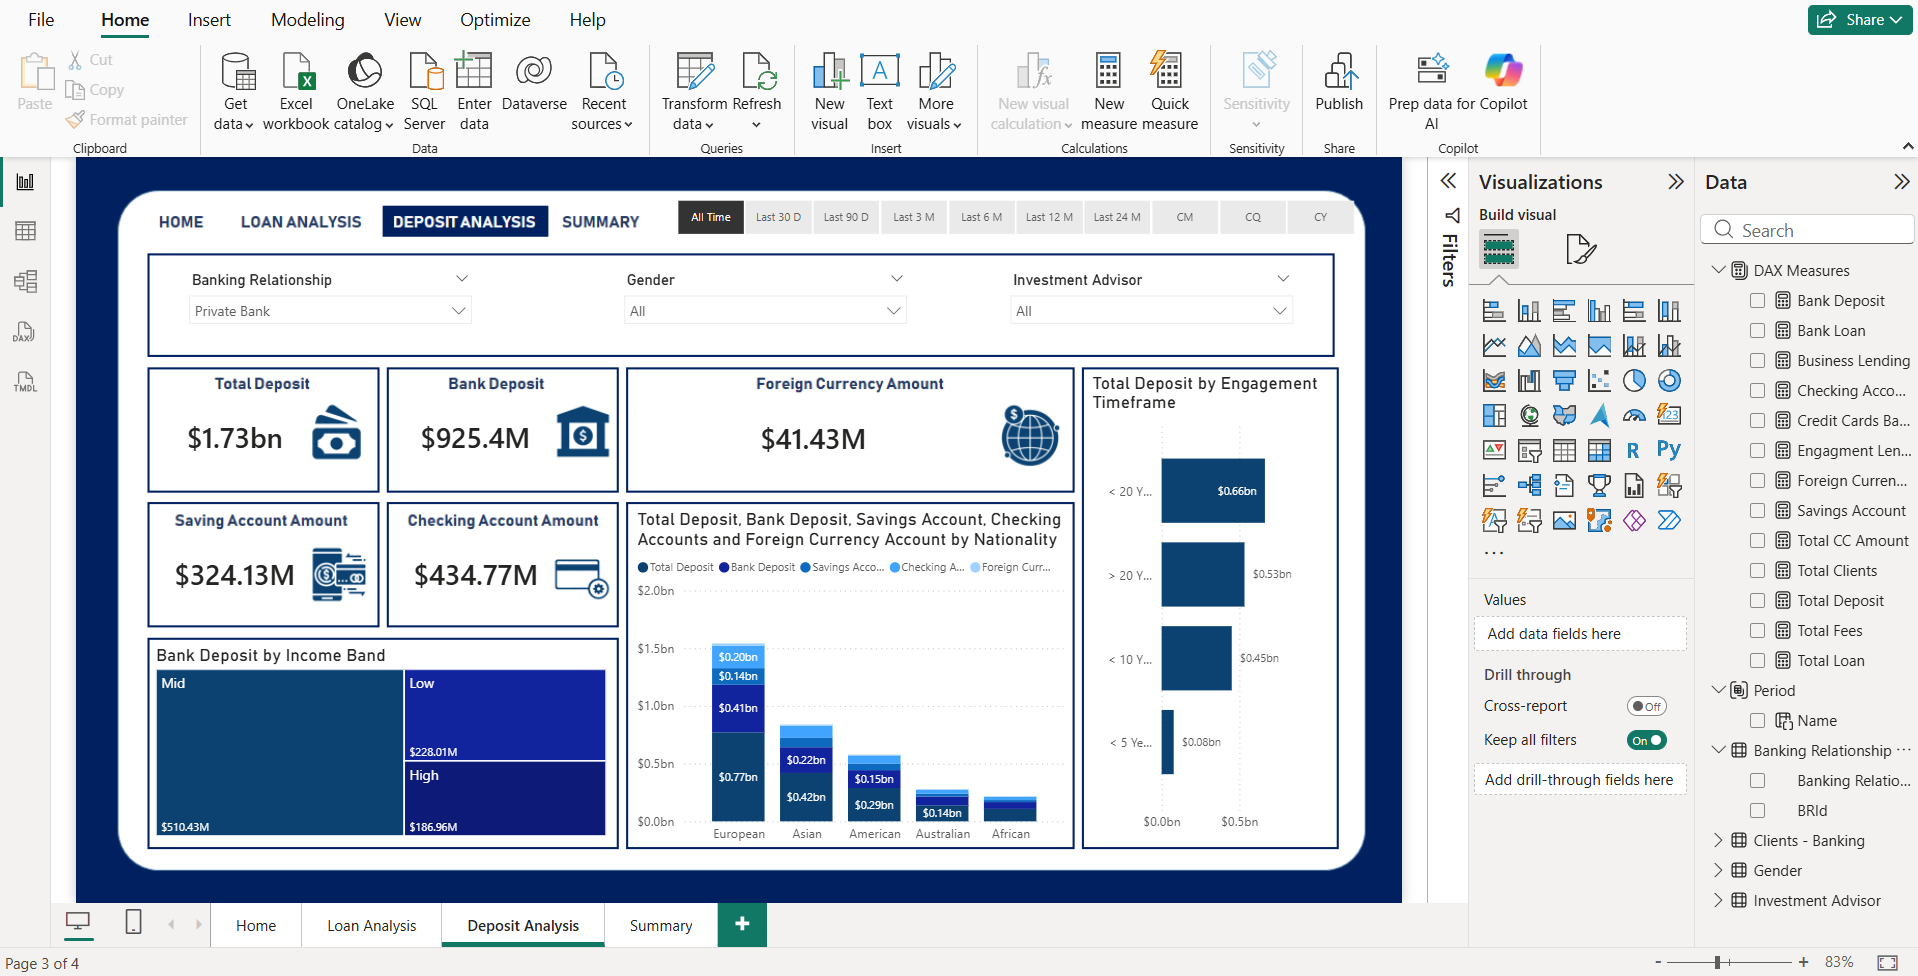

This screenshot's page, from the dashboard's own definition file:
{"tool":"powerbi","page":{"name":"Deposit Analysis","canvas":[1280,720],"ordinal":2},"visuals":[{"type":"card","fields":{"Values":["DAX Measures.Total Deposit"]},"box":[72.7,226.3,161.8,90.3],"z":0},{"type":"card","fields":{"Values":["DAX Measures.Bank Deposit"]},"box":[299,226.3,172.4,89.1],"z":1000},{"type":"card","fields":{"Values":["DAX Measures.Savings Account"]},"box":[72.7,360,161.8,89.1],"z":2000},{"type":"card","fields":{"Values":["DAX Measures.Checking Accounts"]},"box":[300.2,360,171.2,89.1],"z":3000},{"type":"slicer","fields":{"Values":["Banking Relationship.Banking Relationship"]},"box":[98.5,105.2,292.9,75.7],"z":4000},{"type":"slicer","fields":{"Values":["Gender.Gender"]},"box":[518.9,105.2,292.9,75.7],"z":5000},{"type":"slicer","fields":{"Values":["Investment Advisor.Investment Advisor"]},"box":[891.3,105.2,292.9,75.7],"z":6000},{"type":"card","fields":{"Values":["DAX Measures.Foreign Currency Account"]},"box":[537.1,227.5,349.4,89.1],"z":7000},{"type":"treemap","fields":{"Group":["Clients - Banking.Income Band"],"Values":["DAX Measures.Bank Deposit"]},"box":[72.7,470.2,444.4,190],"z":8000},{"type":"columnChart","fields":{"Category":["Clients - Banking.Nationality"],"Y":["DAX Measures.Total Deposit","DAX Measures.Bank Deposit","DAX Measures.Savings Account","DAX Measures.Checking Accounts","DAX Measures.Foreign Currency Account"]},"box":[537.1,338.9,423.3,331.9],"z":9000},{"type":"clusteredBarChart","fields":{"Category":["Clients - Banking.Engagement Timeframe"],"Y":["DAX Measures.Total Deposit"]},"box":[976,207.5,234,452.4],"z":10000},{"type":"slicer","fields":{"Values":["Period.Name"]},"box":[555.2,34.6,702.1,46.6],"z":11000},{"type":"actionButton","box":[72.8,44.2,58.5,31],"z":12000},{"type":"actionButton","box":[160,44.2,119.4,31],"z":13000},{"type":"actionButton","box":[471.6,44.2,83.6,31],"z":14000}]}

Visuals, with their boxes on the page's 1280x720 design canvas (x1, y1, x2, y2). These are canvas units, not pixel positions in the 1918x976 screenshot, which may show the page scaled, cropped or inside an application window:
card - DAX Measures.Total Deposit: bbox(73, 226, 234, 317)
card - DAX Measures.Bank Deposit: bbox(299, 226, 471, 315)
card - DAX Measures.Savings Account: bbox(73, 360, 234, 449)
card - DAX Measures.Checking Accounts: bbox(300, 360, 471, 449)
slicer - Banking Relationship.Banking Relationship: bbox(98, 105, 391, 181)
slicer - Gender.Gender: bbox(519, 105, 812, 181)
slicer - Investment Advisor.Investment Advisor: bbox(891, 105, 1184, 181)
card - DAX Measures.Foreign Currency Account: bbox(537, 228, 886, 317)
treemap - Clients - Banking.Income Band x DAX Measures.Bank Deposit: bbox(73, 470, 517, 660)
columnChart - Clients - Banking.Nationality x DAX Measures.Total Deposit: bbox(537, 339, 960, 671)
clusteredBarChart - Clients - Banking.Engagement Timeframe x DAX Measures.Total Deposit: bbox(976, 208, 1210, 660)
slicer - Period.Name: bbox(555, 35, 1257, 81)
actionButton: bbox(73, 44, 131, 75)
actionButton: bbox(160, 44, 279, 75)
actionButton: bbox(472, 44, 555, 75)
